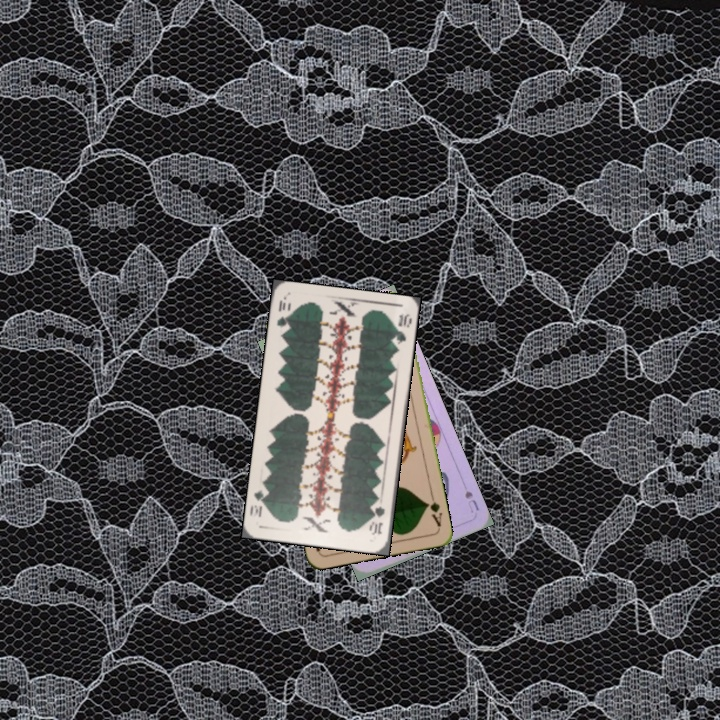G10: (367, 502, 387, 537), (273, 295, 292, 330)
GA: (422, 490, 444, 529)
SU: (461, 487, 482, 516)
